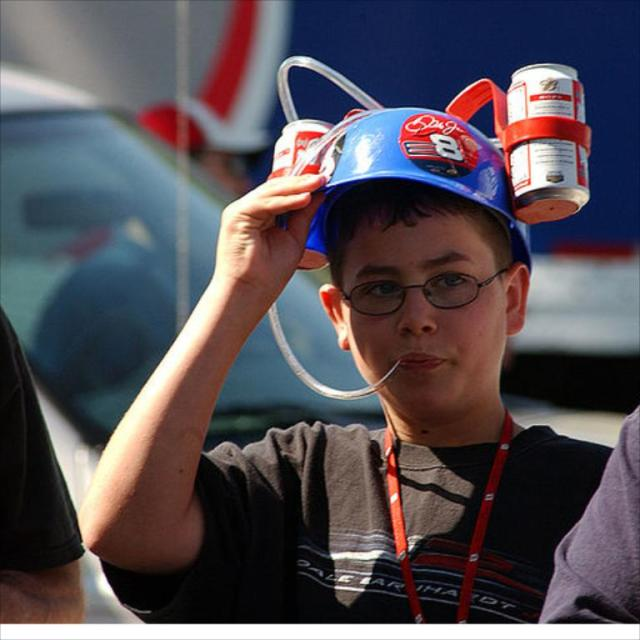helmet: (274, 93, 548, 242)
